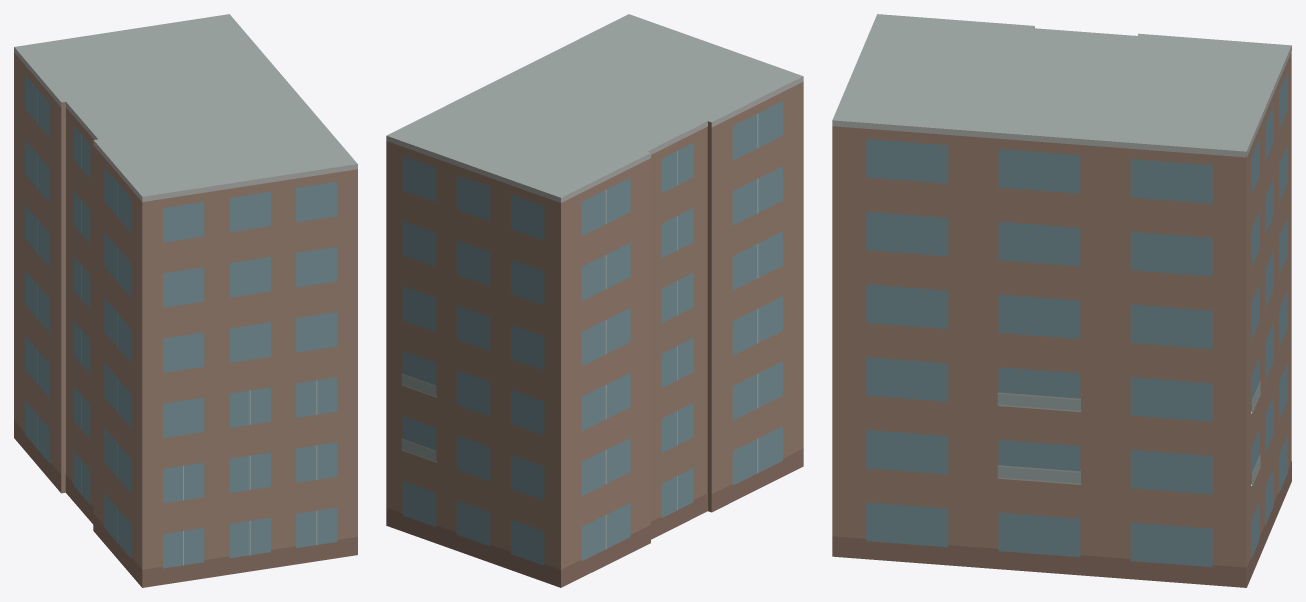
Rendered from survey-upis-32978476.glb.
3 views of the same model, side by side, from view 1: azimuth 30°, elevation 25°; view 2: azimuth 150°, elevation 25°; view 3: azimuth 270°, elevation 25° (orthographic). The views are drawn at different scales.
Parts seen in each view (by area): view 1: survey-upis-32978476.tmp; view 2: survey-upis-32978476.tmp; view 3: survey-upis-32978476.tmp.
Part boxes in pixels (x1=…): survey-upis-32978476.tmp: x1=14, y1=14, x2=357, y2=587; survey-upis-32978476.tmp: x1=386, y1=14, x2=803, y2=587; survey-upis-32978476.tmp: x1=832, y1=14, x2=1291, y2=587.
Bounding box in the file's own units: 12.4 × 18.3 × 17.48.
